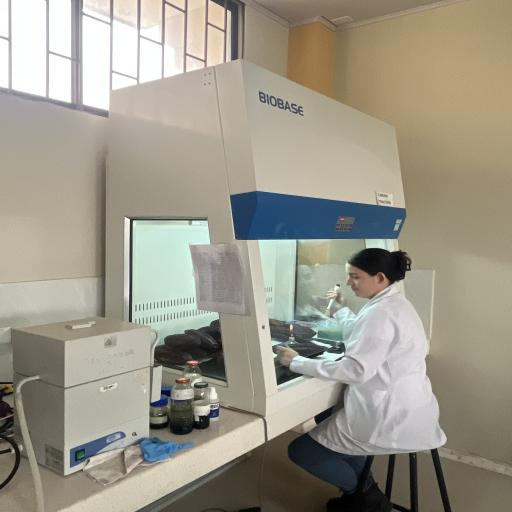Camara_Extractora_Biobase: (92, 51, 429, 428)
